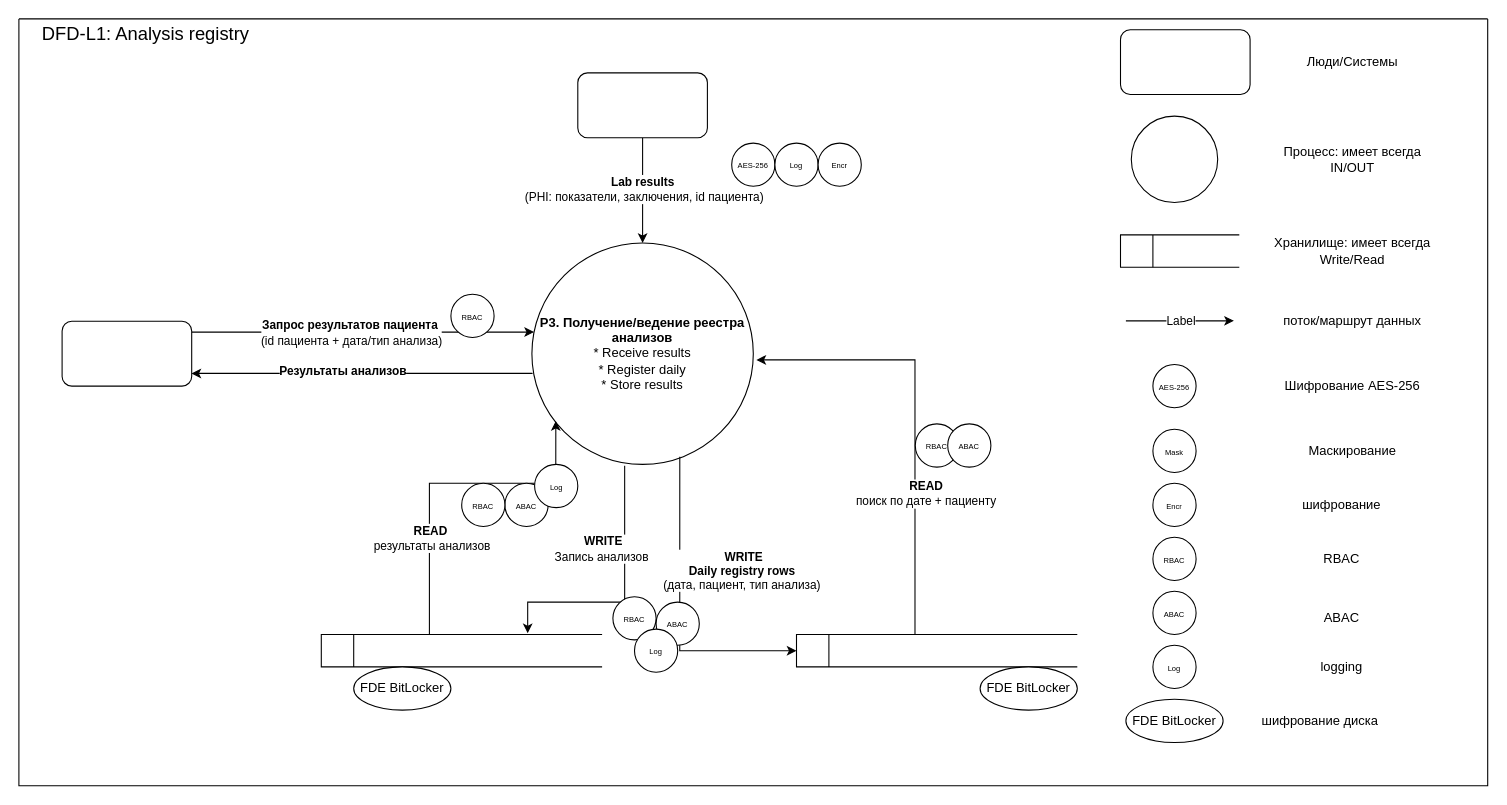
The diagram is 1507 pixels wide and 805 high, and some of its shapes have lost their labels. Each missing label, with the centre of its shape:
"D1 Storage" belongs at point 1179,250.
"D3 Lab results (PHI)" belongs at point 461,650.
"D5 RegistryByDate.xlsx анализы по дате" belongs at point 936,650.
"Doctor (врач)" belongs at point 126,353.
"External object" belongs at point 1184,61.
"Lab (лаборатория)" belongs at point 642,105.
"P1. Procces" belongs at point 1174,158.
